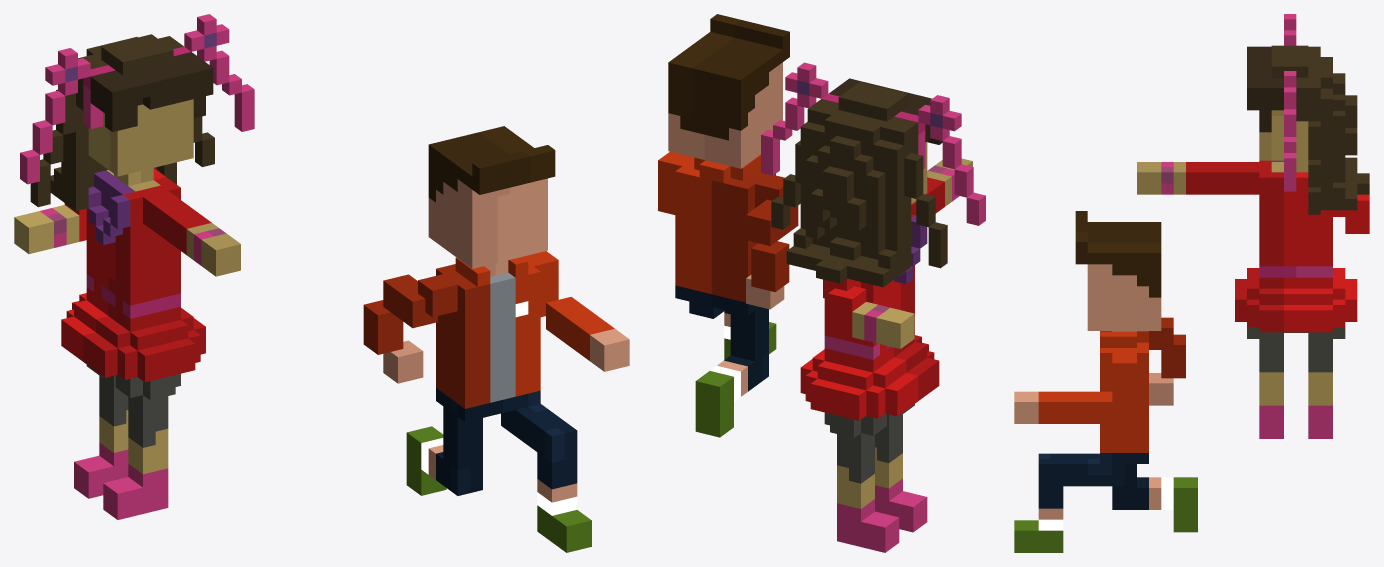
The model's file is characters.gltf.
3 renders of one model, left to right at view 1: azimuth 30°, elevation 25°; view 2: azimuth 150°, elevation 25°; view 3: azimuth 270°, elevation 25°, orthographic. The views are drawn at different scales.
Bounding box in the file's own units: 35 × 35 × 29.
2 materials, 2 textured.
